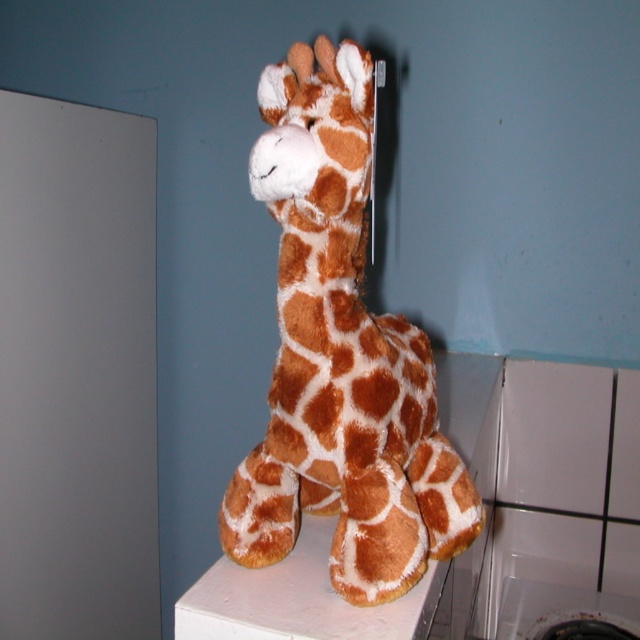Giraffe: (217, 32, 488, 610)
